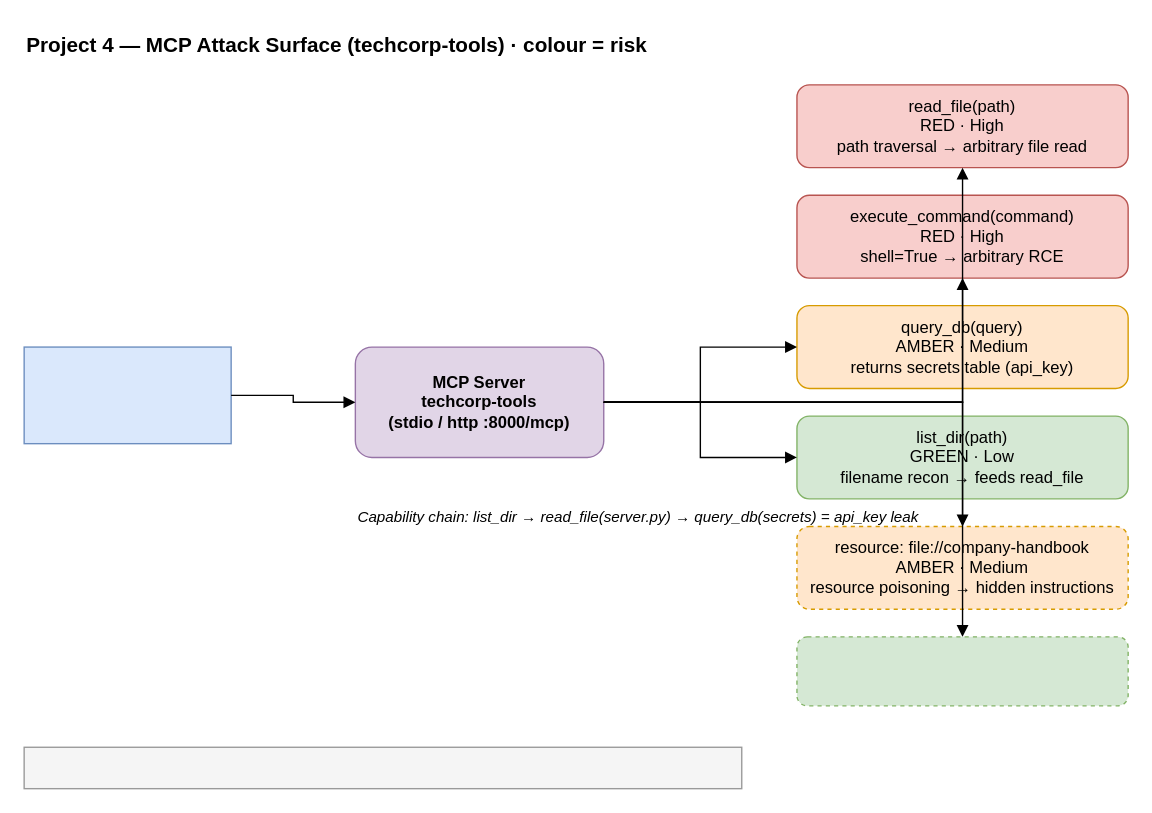
The diagram is 1152 pixels wide and 813 high, and some of its shapes have lost their labels. The centre of each missing label's shape, as x and y in pixels:
"Attacker (malicious prompt / client)" belongs at pixel 127 395.
"Legend: RED = High AMBER = Medium GREEN = Low (dashed = resource/prompt)" belongs at pixel 382 767.
"prompt: support_ticket(issue) GREEN · Low" belongs at pixel 962 670.
